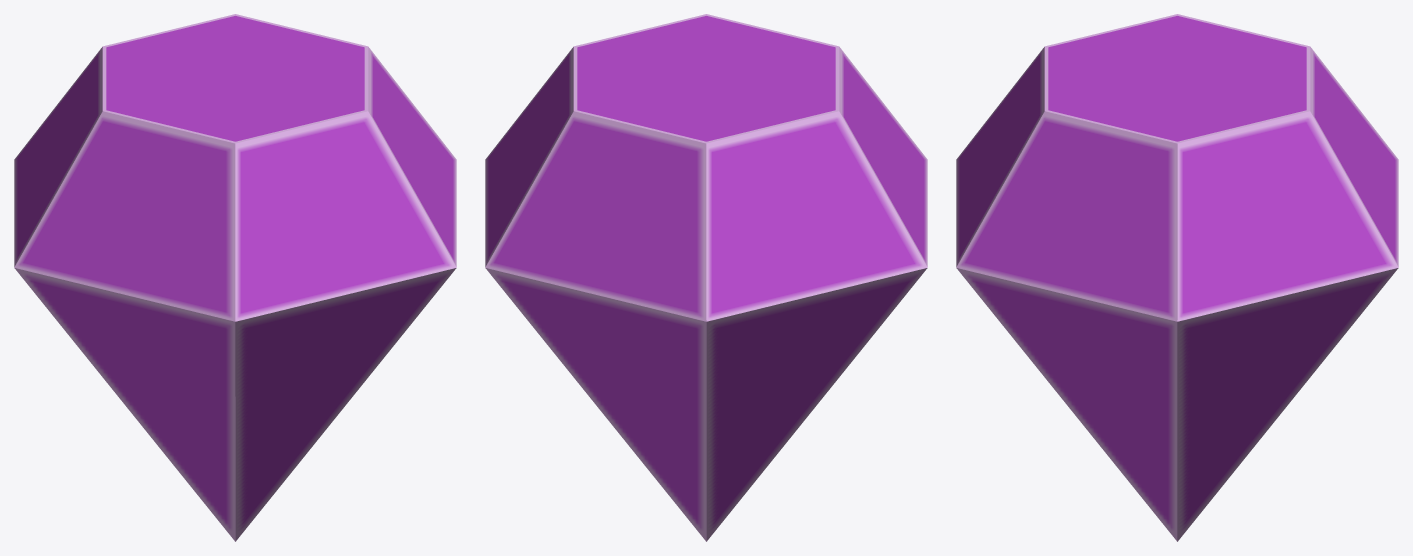
Rendered from Diament0.fbx.
3 views of the same model, side by side, from view 1: azimuth 30°, elevation 25°; view 2: azimuth 150°, elevation 25°; view 3: azimuth 270°, elevation 25° (orthographic).
Visible parts, largest first — view 1: Cylinder; view 2: Cylinder; view 3: Cylinder.
Part boxes in pixels (x1=…): Cylinder: x1=14, y1=14, x2=456, y2=541; Cylinder: x1=485, y1=14, x2=927, y2=541; Cylinder: x1=956, y1=14, x2=1398, y2=541.
Bounding box in the file's own units: 250 × 250 × 217.
